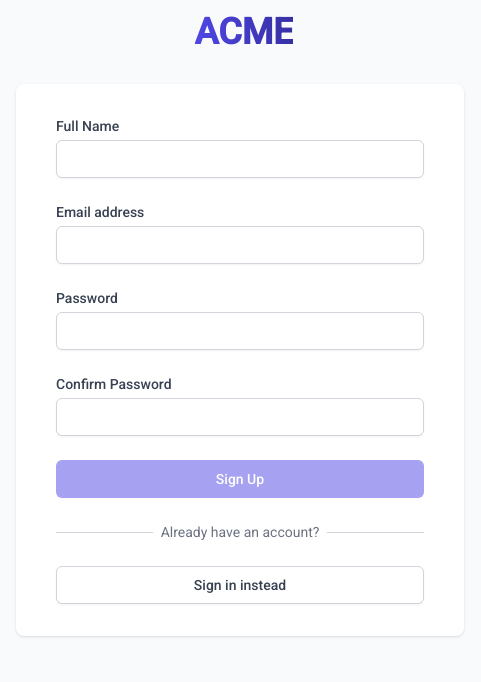
Test: Sign Up › Form Validation › should validate password length
This screenshot has width=481, height=682.
Type "123" into the password field named "password" at (240, 331), box top-left (56, 312), bottom-right (424, 350)
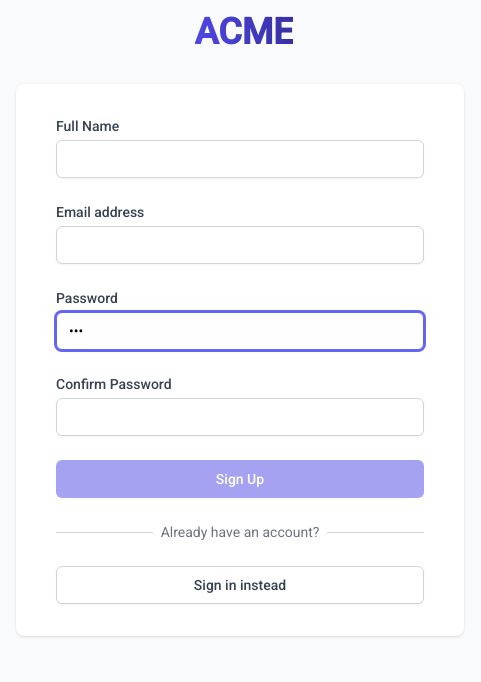
Leave the password field named "password", box top-left (56, 312), bottom-right (424, 350)
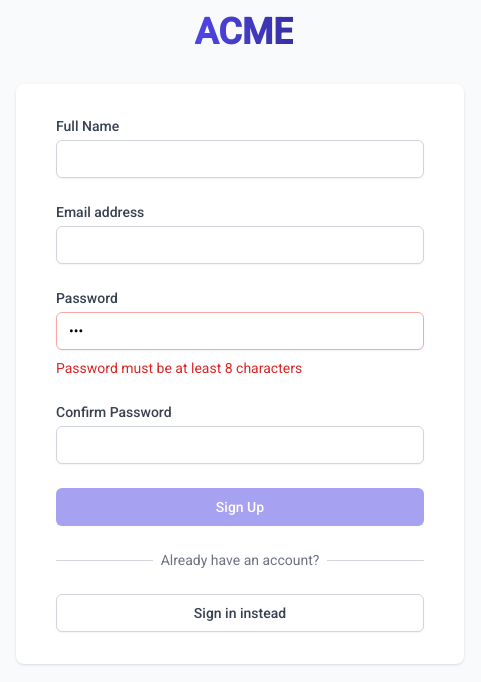
Check: the text "Password must be at least 8 characters" is shown, box top-left (56, 360), bottom-right (302, 376)
